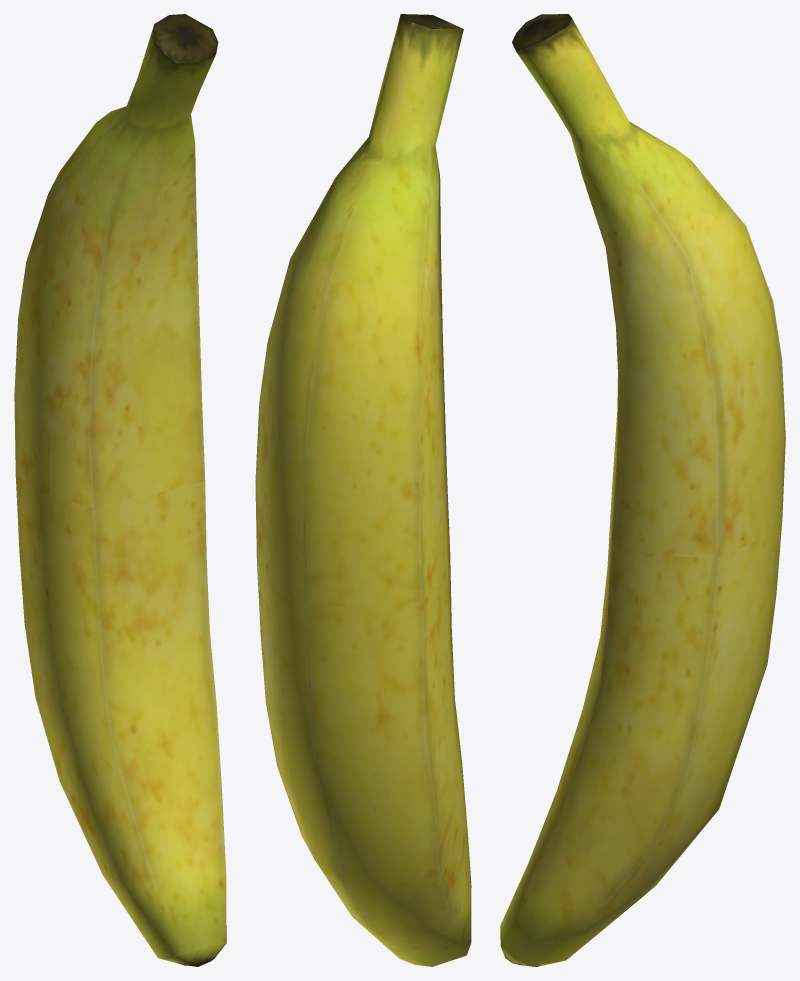
The model's file is banana.FBX.
The picture shows the model from 3 angles, left to right: view 1: azimuth 30°, elevation 25°; view 2: azimuth 150°, elevation 25°; view 3: azimuth 270°, elevation 25°; orthographic projection. The views are drawn at different scales.
Visible parts, largest first — view 1: banana; view 2: banana; view 3: banana.
Boxes of the visible parts, x1=… form: banana: x1=14, y1=14, x2=226, y2=966; banana: x1=255, y1=14, x2=471, y2=966; banana: x1=500, y1=14, x2=785, y2=966.
Size of the model in its own units: 6.08 by 33.39 by 9.15.
